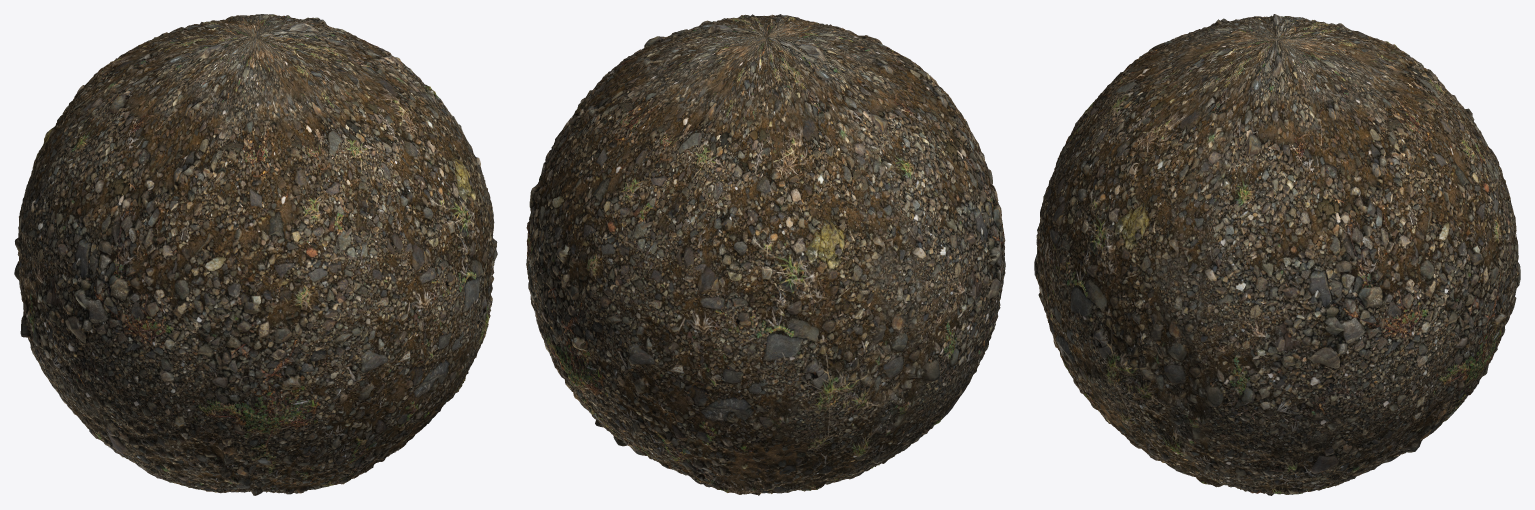
File: brown_mud_rocks_01_1k.gltf
3 views of the same model, side by side, from view 1: azimuth 30°, elevation 25°; view 2: azimuth 150°, elevation 25°; view 3: azimuth 270°, elevation 25° (orthographic).
Visible parts, largest first — view 1: sphere_gltf; view 2: sphere_gltf; view 3: sphere_gltf.
Part boxes in pixels (box(x1,y1,x2,y2)): sphere_gltf: box(14, 14, 497, 495); sphere_gltf: box(526, 14, 1005, 495); sphere_gltf: box(1034, 14, 1520, 495).
Bounding box in the file's own units: 1.31 × 1.31 × 1.32.
1 material, 1 textured.
